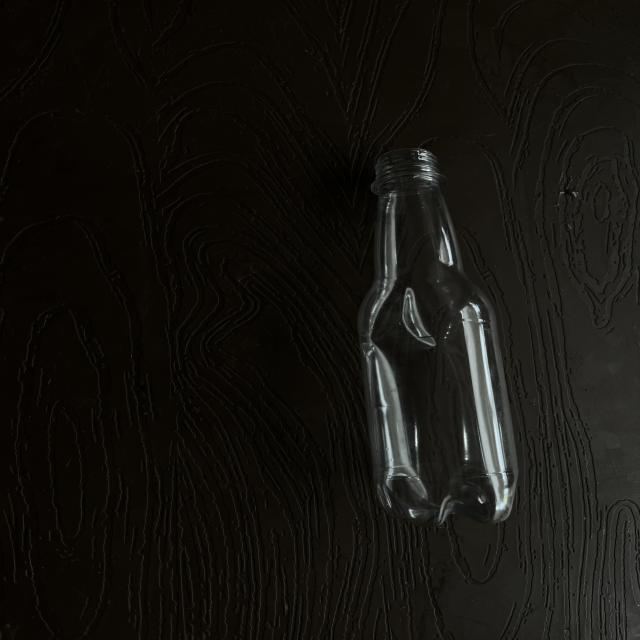PET_ClearBottle: (342, 140, 574, 564)
